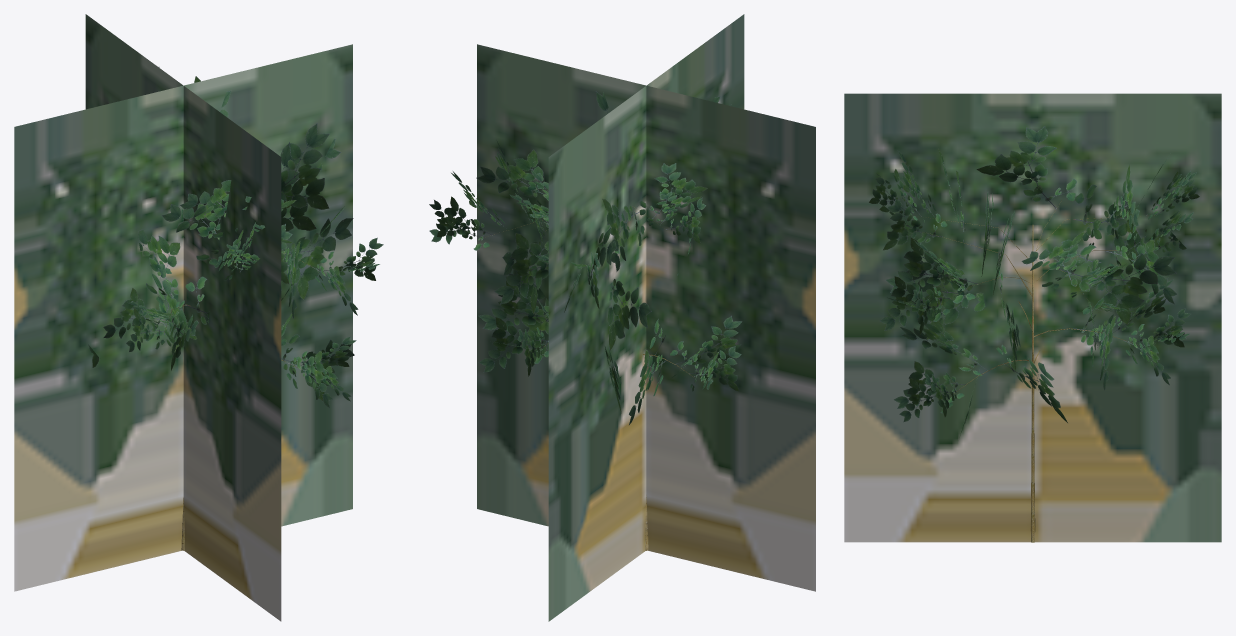
The model's file is Shrub1-3A.fbx.
The picture shows the model from 3 angles, left to right: view 1: azimuth 30°, elevation 25°; view 2: azimuth 150°, elevation 25°; view 3: azimuth 270°, elevation 25°; orthographic projection. The views are drawn at different scales.
Parts seen in each view (by area): view 1: Billboard-Shrub1-3A, Shrub1-3A_LOD0; view 2: Billboard-Shrub1-3A, Shrub1-3A_LOD0; view 3: Billboard-Shrub1-3A, Shrub1-3A_LOD0.
Boxes of the visible parts, x1,y1,x2,y2 form: Billboard-Shrub1-3A: (14, 14, 352, 621); Shrub1-3A_LOD0: (88, 67, 383, 550); Billboard-Shrub1-3A: (477, 14, 815, 621); Shrub1-3A_LOD0: (429, 91, 741, 550); Billboard-Shrub1-3A: (844, 93, 1221, 542); Shrub1-3A_LOD0: (869, 126, 1199, 542).
Size of what is drawn, in the model's own units: 231 by 289 by 220.
